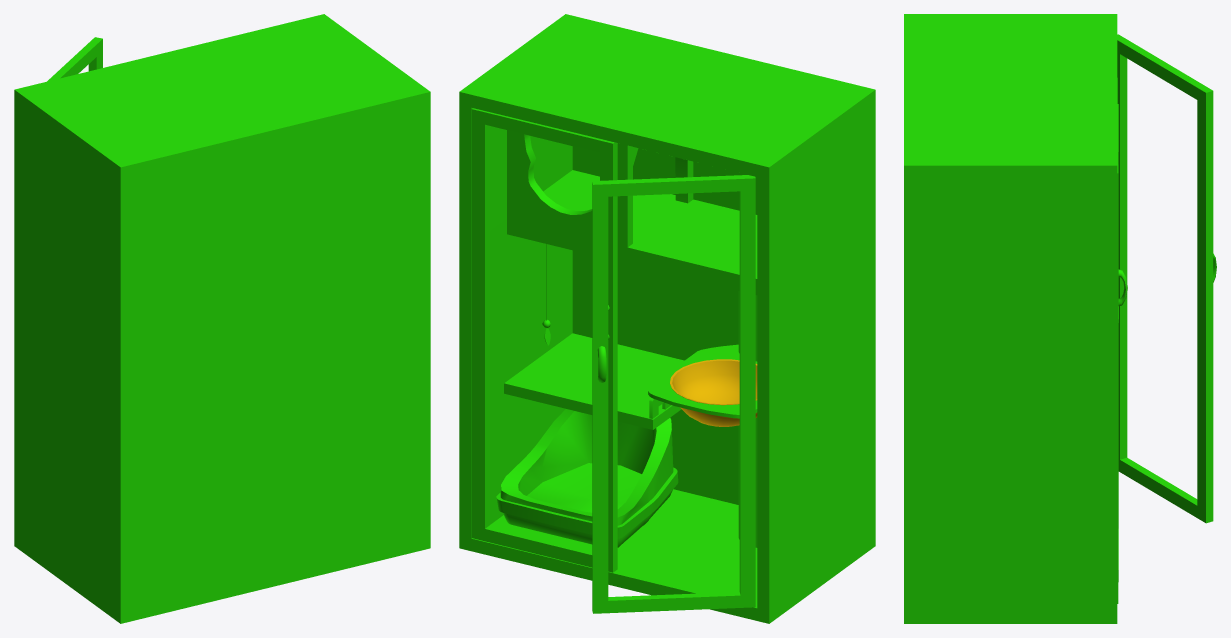
Rendered from CatHouse.fbx.
3 views of the same model, side by side, from view 1: azimuth 30°, elevation 25°; view 2: azimuth 150°, elevation 25°; view 3: azimuth 270°, elevation 25° (orthographic).
Visible parts, largest first — view 1: CatHouse, DoorRight; view 2: CatHouse, DoorRight, DoorLeft, Litter, GlassDome; view 3: CatHouse, DoorRight, DoorLeft.
Boxes of the visible parts, left/top/right/bottom form: CatHouse: left=14, top=14, right=430, bottom=623; DoorRight: left=47, top=37, right=102, bottom=81; CatHouse: left=459, top=14, right=875, bottom=623; DoorRight: left=592, top=175, right=755, bottom=613; DoorLeft: left=471, top=108, right=617, bottom=572; Litter: left=496, top=409, right=678, bottom=547; GlassDome: left=670, top=359, right=757, bottom=426; CatHouse: left=904, top=14, right=1118, bottom=623; DoorRight: left=1117, top=34, right=1216, bottom=523; DoorLeft: left=1117, top=104, right=1127, bottom=603.
Size of the model in its own units: 388 by 546 by 338.
